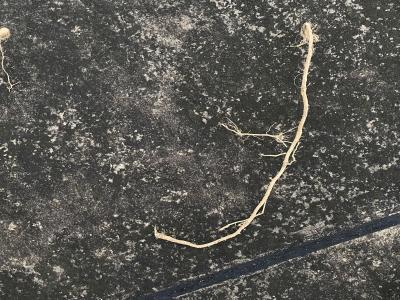Root: (154, 22, 319, 248), (221, 119, 285, 144)
